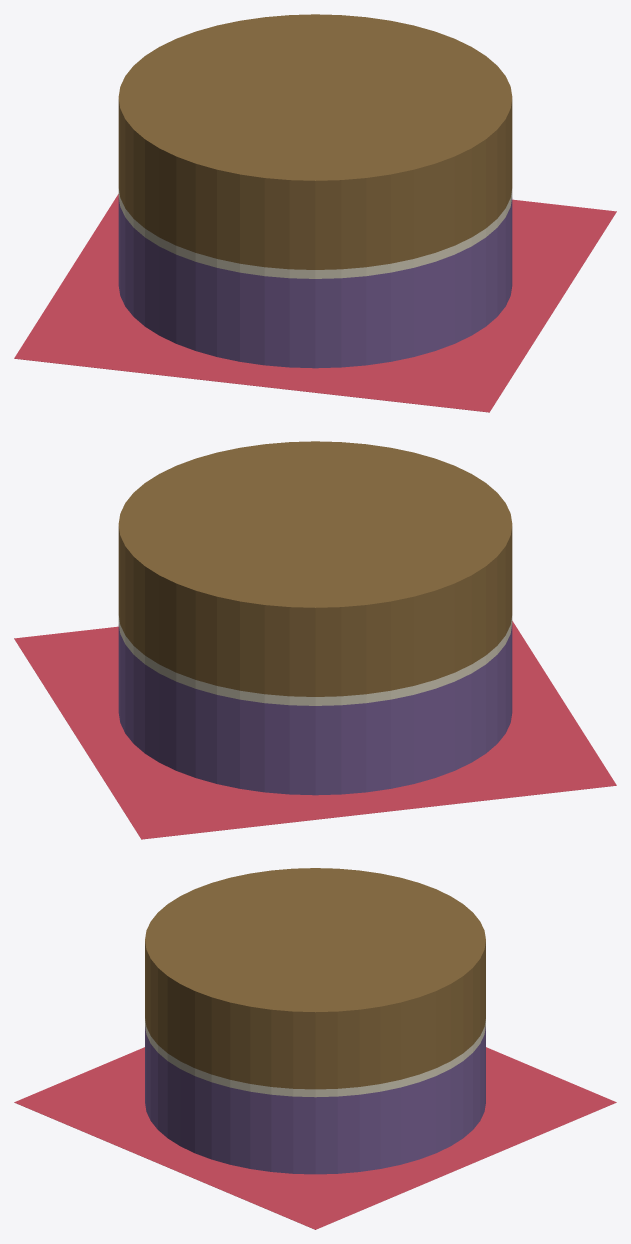
The model's file is UVC.glb.
The picture shows the model from 3 angles, top to bottom: view 1: azimuth 30°, elevation 25°; view 2: azimuth 150°, elevation 25°; view 3: azimuth 270°, elevation 25°; orthographic projection. The views are drawn at different scales.
Parts seen in each view (by area): view 1: Mesh_Mesh_head_geo.001_lambert2SG.001; view 2: Mesh_Mesh_head_geo.001_lambert2SG.001; view 3: Mesh_Mesh_head_geo.001_lambert2SG.001.
Part boxes in pixels (x1,y1,x2,y2): Mesh_Mesh_head_geo.001_lambert2SG.001: (14,14,616,412); Mesh_Mesh_head_geo.001_lambert2SG.001: (14,441,616,839); Mesh_Mesh_head_geo.001_lambert2SG.001: (14,868,616,1229).
Size of the model in its own units: 0.0354 by 0.0105 by 0.0354.
